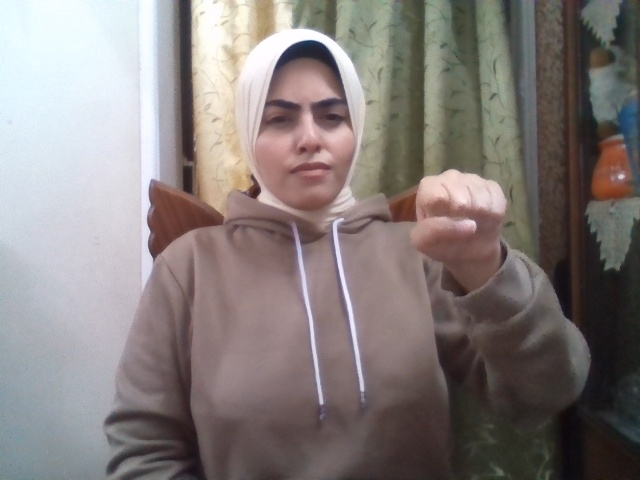yes: (412, 168, 507, 251)
